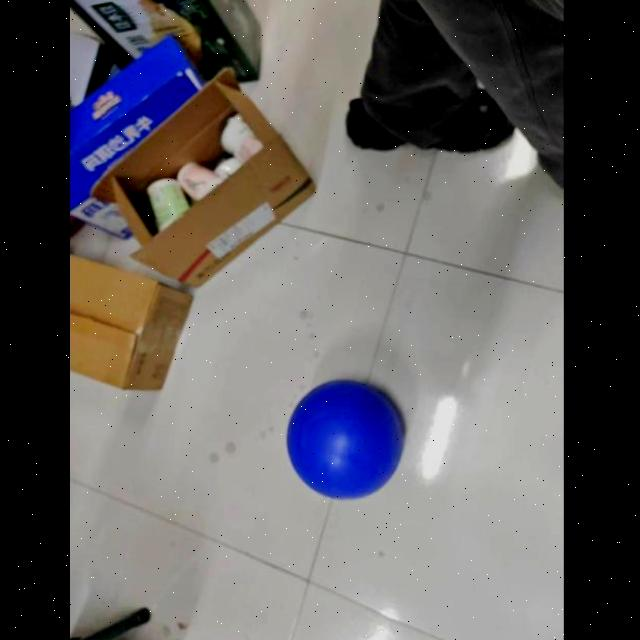B: (284, 378, 406, 502)
